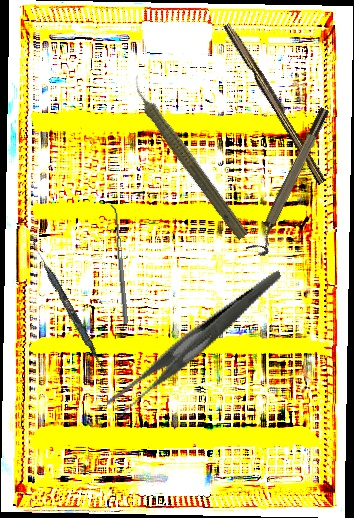Dressing Forceps: (84, 270, 308, 420)
Fixation Ring: (245, 105, 339, 259)
Handpiece: (122, 72, 255, 243)
Scalpel Handle: (220, 20, 331, 186)
Spatula Surgical: (26, 238, 111, 375), (108, 204, 129, 325)
